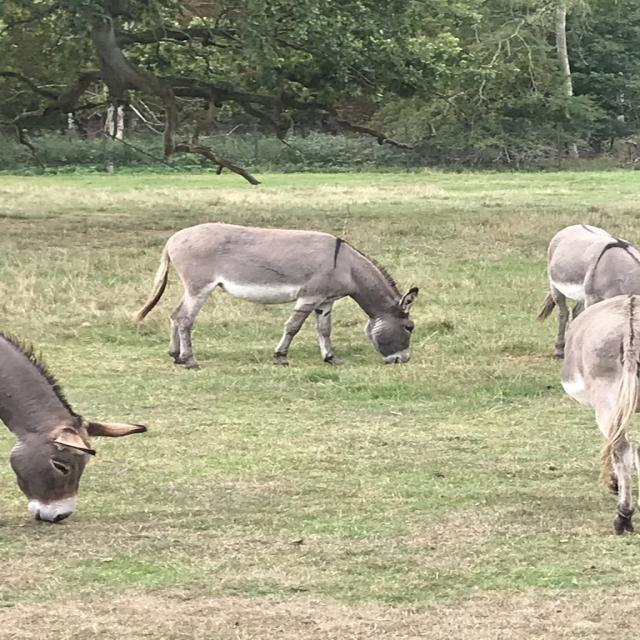Donkey: (128, 220, 420, 370), (0, 323, 148, 523), (556, 292, 638, 537), (532, 221, 638, 359)
